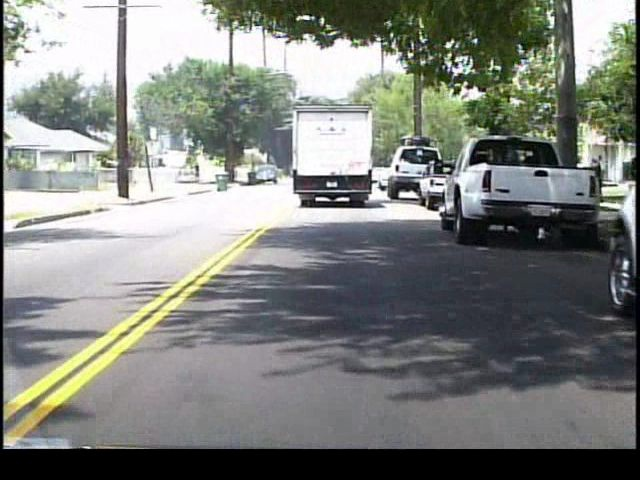person: (586, 156, 599, 200), (594, 155, 605, 203), (194, 162, 204, 185)
